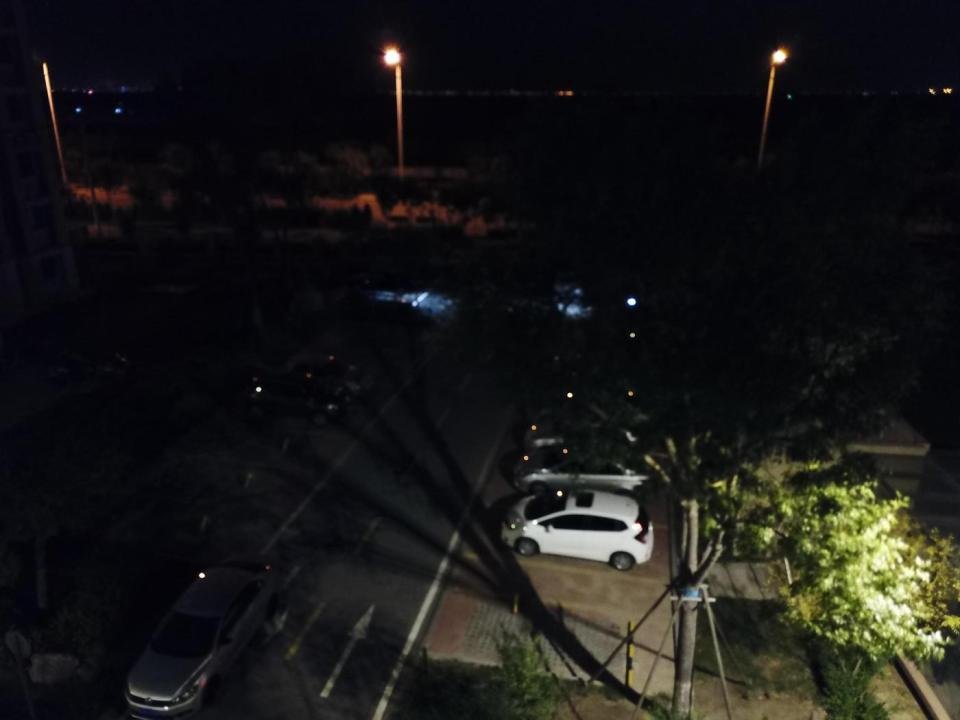car: (122, 557, 283, 720), (499, 487, 655, 571), (512, 441, 659, 494), (522, 409, 644, 454), (248, 374, 346, 426), (289, 353, 373, 398)
